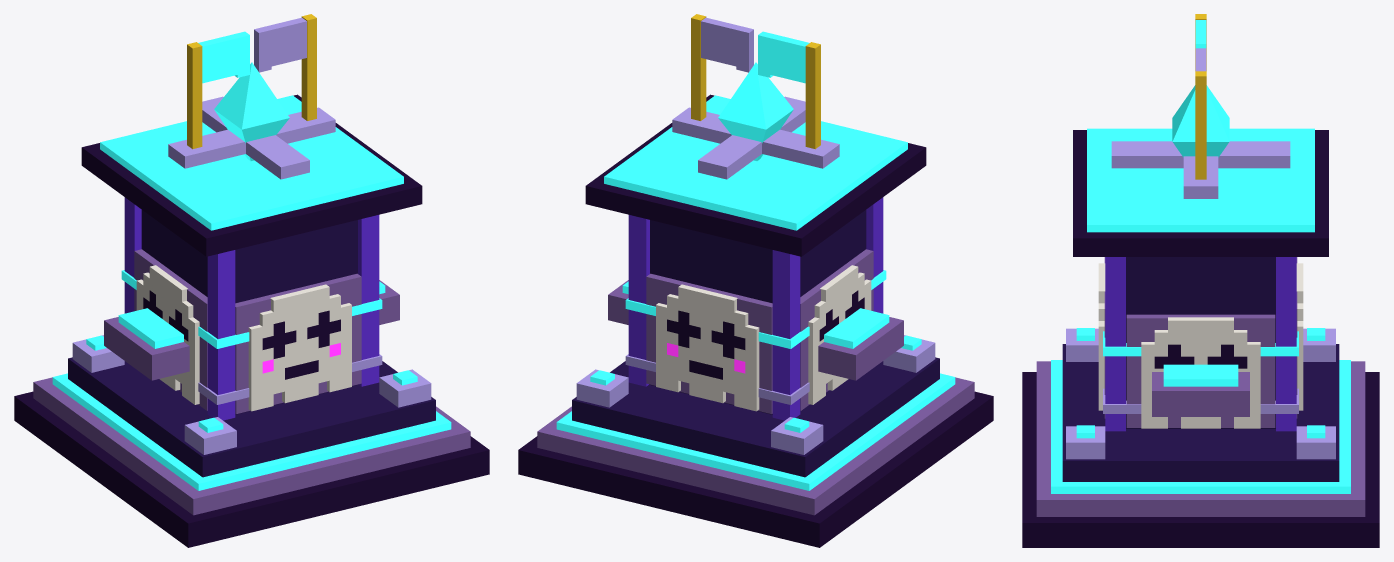
File: trail-tier-2.glb
3 views of the same model, side by side, from view 1: azimuth 30°, elevation 25°; view 2: azimuth 150°, elevation 25°; view 3: azimuth 270°, elevation 25° (orthographic). The views are drawn at different scales.
Parts seen in each view (by area): view 1: base-ink, base-deep, base-teal, base-stone, base-cream, base-purple, crown-lavender, crown-teal, base-lavender, crown-gold; view 2: base-ink, base-deep, base-teal, base-stone, base-cream, base-purple, crown-lavender, crown-teal, base-lavender, crown-gold; view 3: base-teal, base-deep, base-ink, base-stone, base-cream, base-purple, crown-lavender, base-lavender, crown-teal, crown-gold.
Boxes of the visible parts, bbox=[...] form: base-ink: bbox=[14, 94, 489, 547]; base-deep: bbox=[68, 210, 435, 477]; base-teal: bbox=[52, 95, 451, 490]; base-stone: bbox=[33, 249, 470, 515]; base-cream: bbox=[136, 265, 351, 411]; base-purple: bbox=[124, 197, 379, 420]; crown-lavender: bbox=[168, 17, 335, 179]; crown-teal: bbox=[198, 31, 289, 160]; base-lavender: bbox=[72, 335, 431, 454]; crown-gold: bbox=[187, 14, 316, 149]; base-ink: bbox=[518, 94, 993, 547]; base-deep: bbox=[572, 210, 939, 477]; base-teal: bbox=[556, 95, 955, 490]; base-stone: bbox=[537, 249, 974, 515]; base-cream: bbox=[656, 265, 871, 411]; base-purple: bbox=[628, 197, 883, 420]; crown-lavender: bbox=[672, 17, 839, 179]; crown-teal: bbox=[718, 31, 809, 160]; base-lavender: bbox=[576, 335, 935, 454]; crown-gold: bbox=[691, 14, 820, 149]; base-teal: bbox=[1051, 128, 1350, 493]; base-deep: bbox=[1062, 257, 1339, 481]; base-ink: bbox=[1022, 130, 1379, 547]; base-stone: bbox=[1036, 257, 1365, 516]; base-cream: bbox=[1098, 263, 1303, 428]; base-purple: bbox=[1105, 257, 1296, 431]; crown-lavender: bbox=[1111, 48, 1290, 198]; base-lavender: bbox=[1066, 328, 1335, 459]; crown-teal: bbox=[1172, 20, 1229, 157]; crown-gold: bbox=[1195, 14, 1206, 179].
Size of the model in its own units: 3.1 by 4.09 by 3.1.
